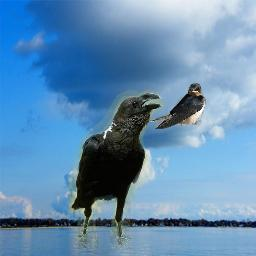Crow: (68, 89, 165, 249)
Swallow: (148, 83, 206, 129)
